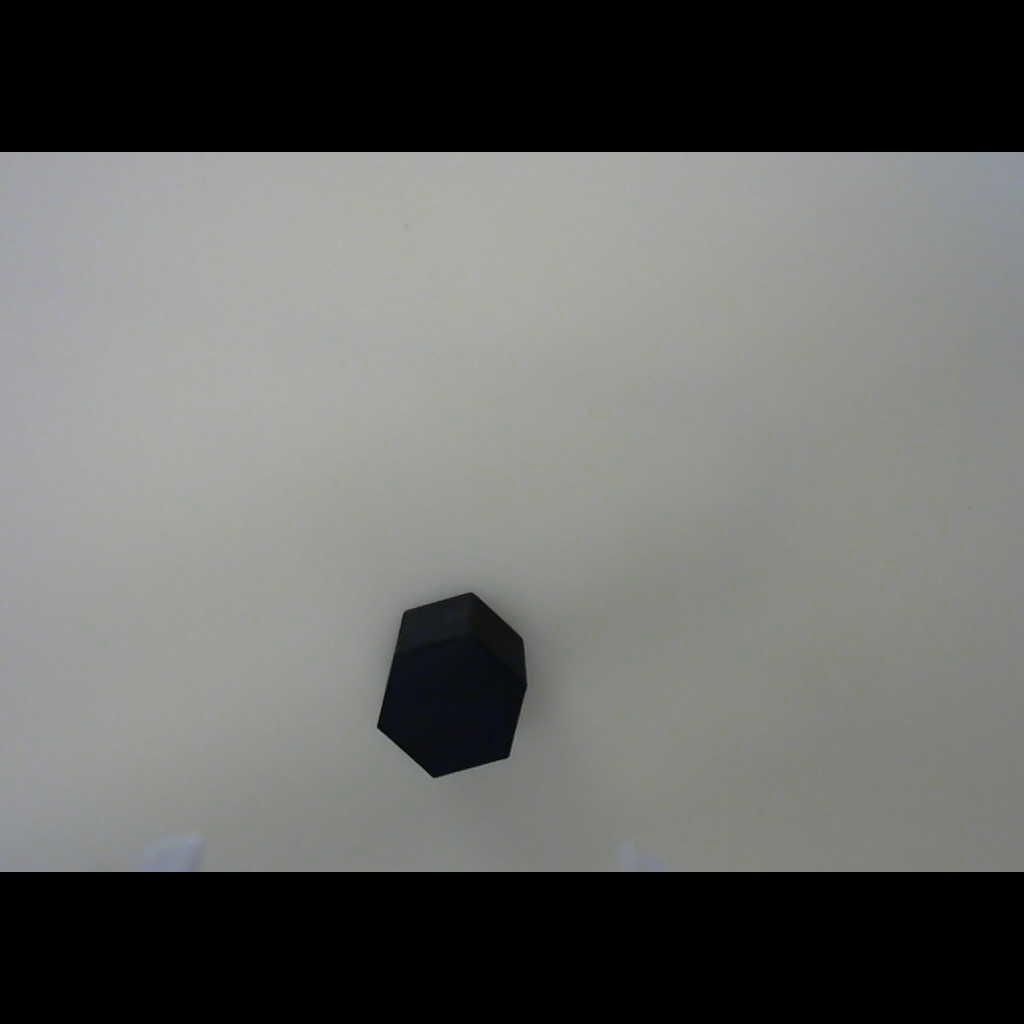hexagon: (349, 563, 561, 810)
